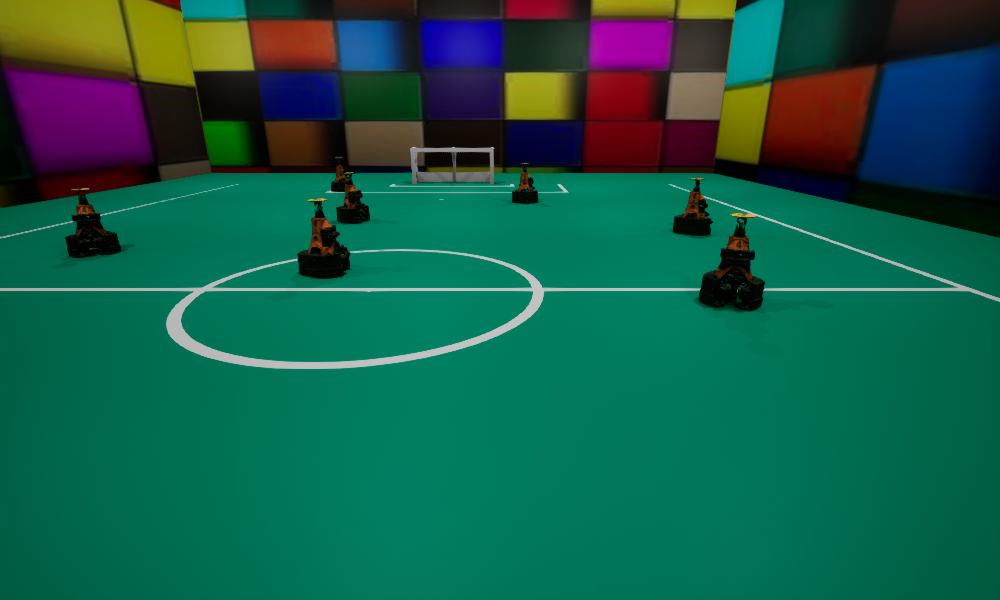o: (699, 213, 764, 309), (297, 198, 350, 278), (65, 188, 120, 257), (673, 178, 712, 235), (336, 172, 369, 223), (512, 163, 537, 203), (331, 157, 347, 191)
